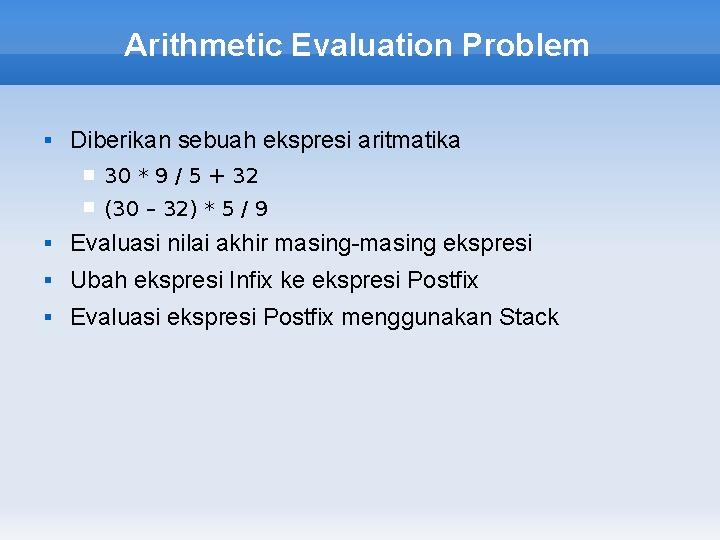paragraph: (36, 95, 599, 363)
title: (115, 15, 618, 77)
